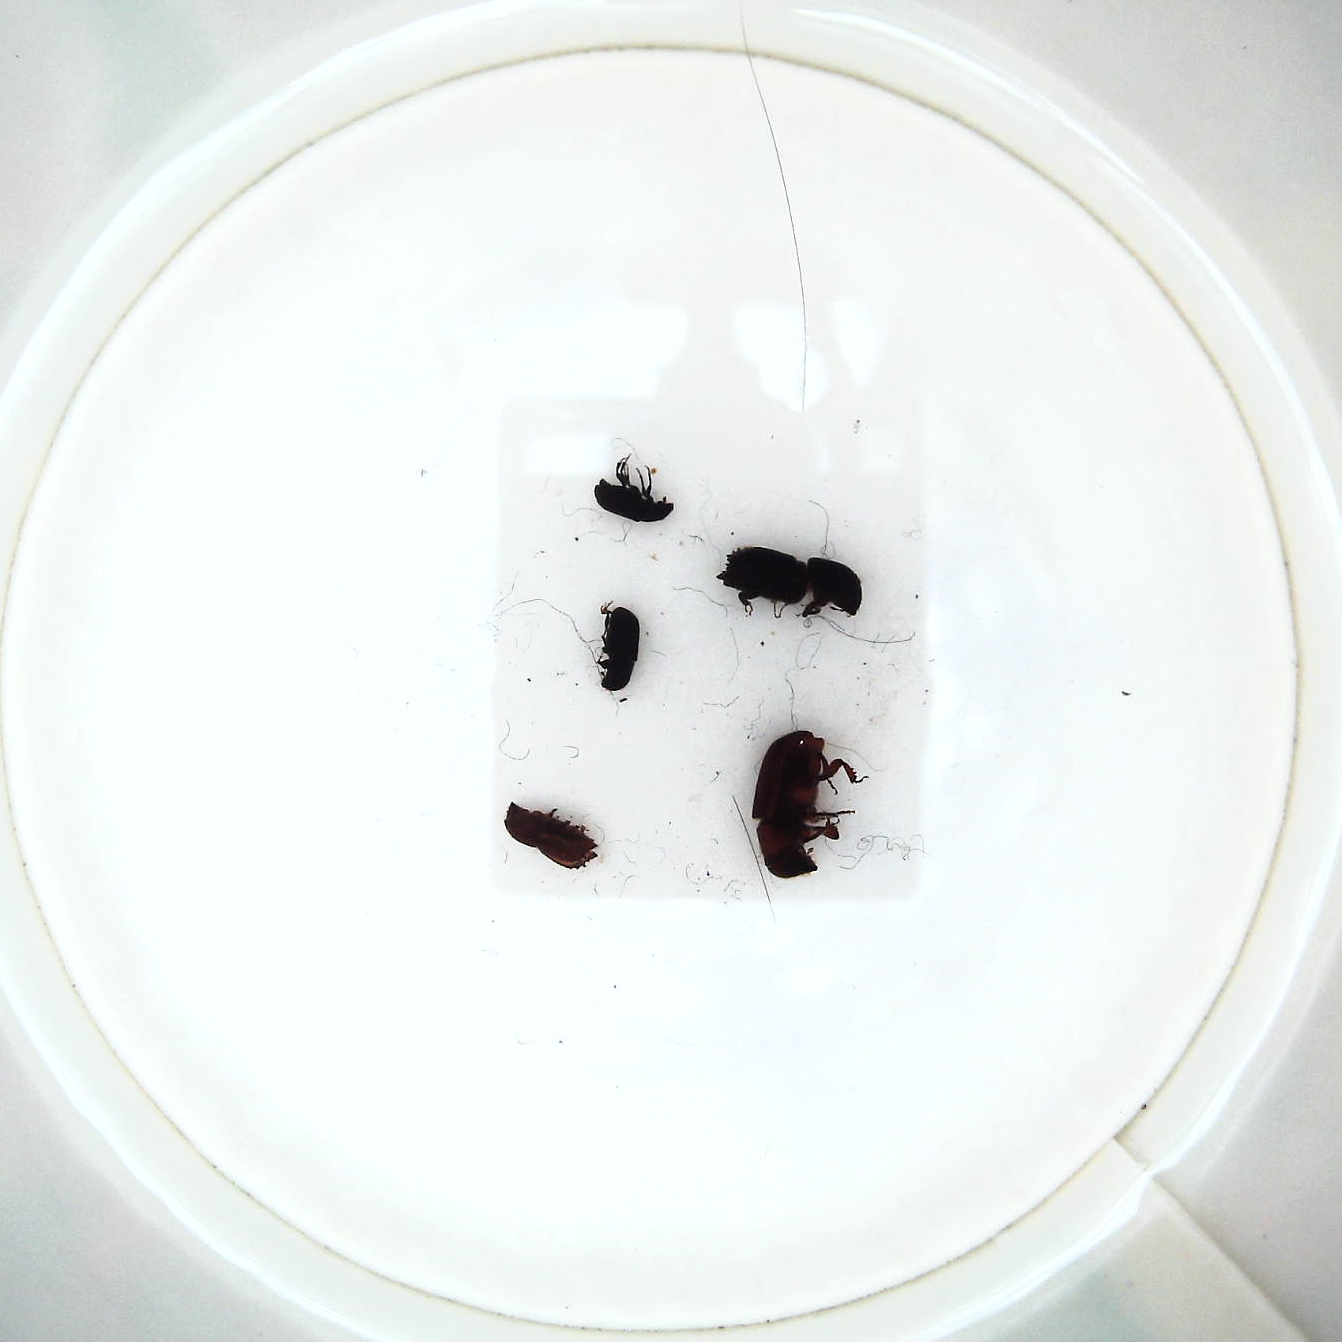Boerner: (708, 546, 866, 624)
Leconte: (747, 728, 852, 881)
armandi: (594, 600, 645, 693)
coleoptera: (589, 451, 673, 527)
linnaeus: (498, 798, 601, 873)
